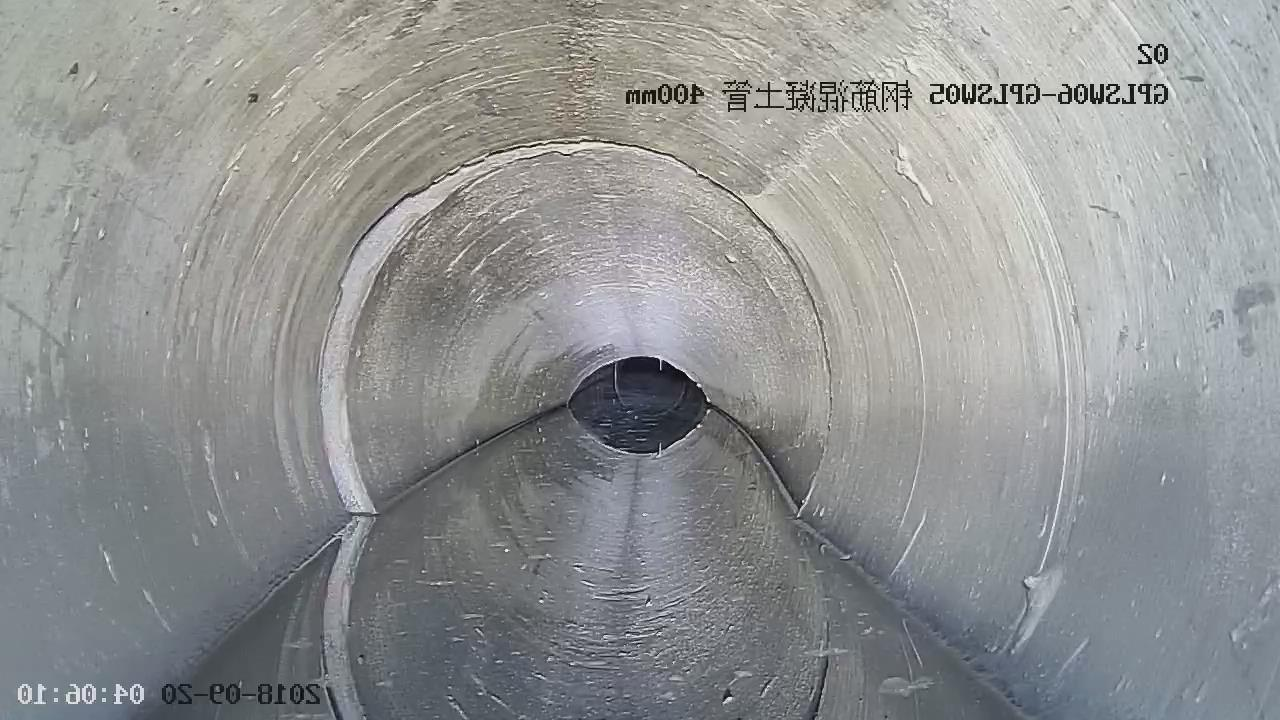CKTJ: (320, 142, 696, 515)
